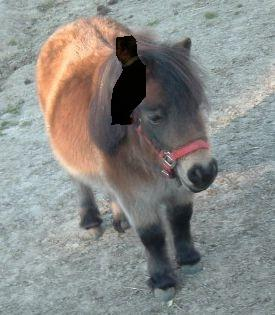tampered: (112, 36, 146, 125)
